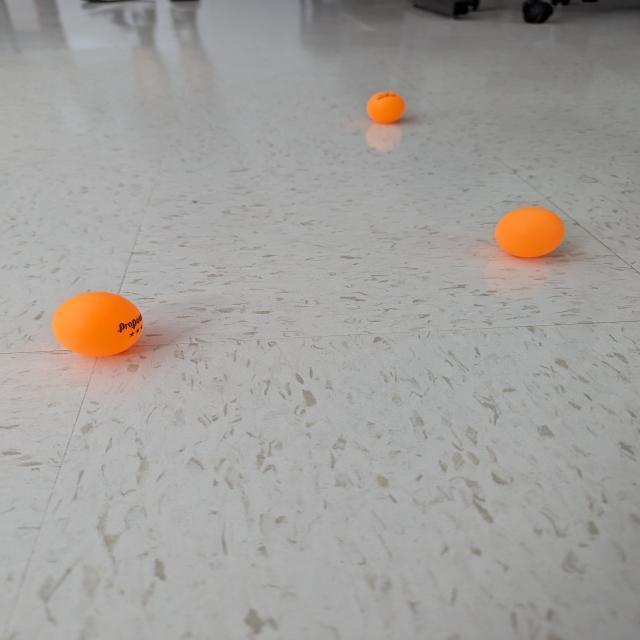ping-pong-ball: (48, 288, 152, 359), (492, 204, 568, 260), (364, 88, 408, 125)
